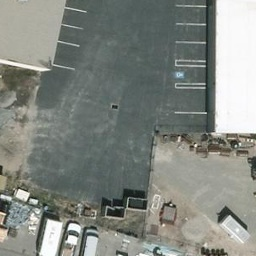car: (58, 222, 80, 255)
